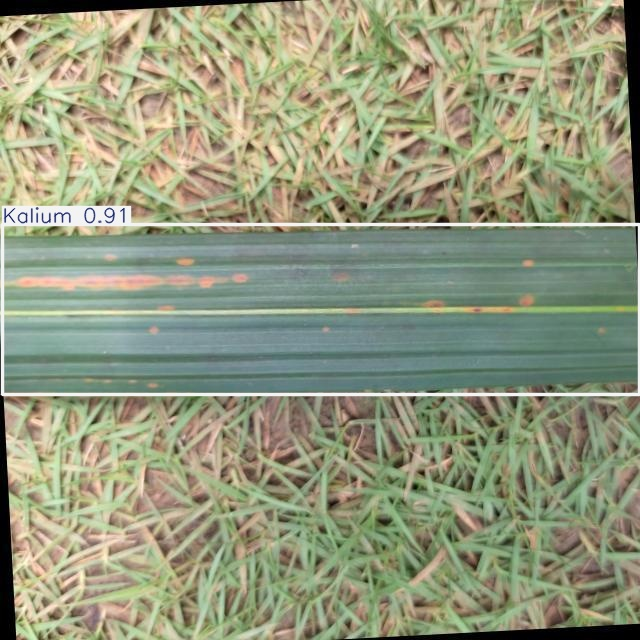Kalium: (3, 224, 639, 395)
